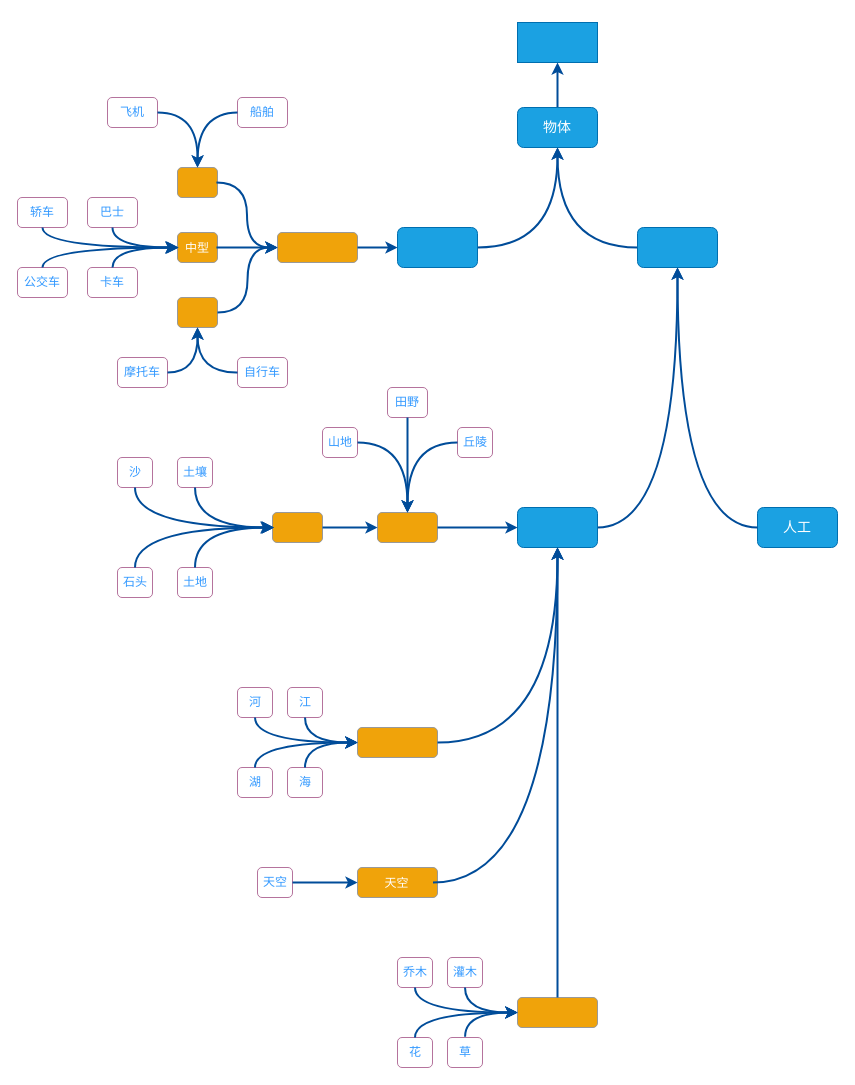
This 855x1085 diagram has some shape labels left out. Each missing label, with the centre of its shape:
"交通工具" goes at (317,247).
"动态" goes at (437,247).
"地形" goes at (407,527).
"地面" goes at (297,527).
"城市空间" goes at (557,42).
"大型" goes at (197,182).
"小型" goes at (197,312).
"植物" goes at (557,1012).
"水体" goes at (397,742).
"自然" goes at (557,527).
"静态" goes at (677,247).
